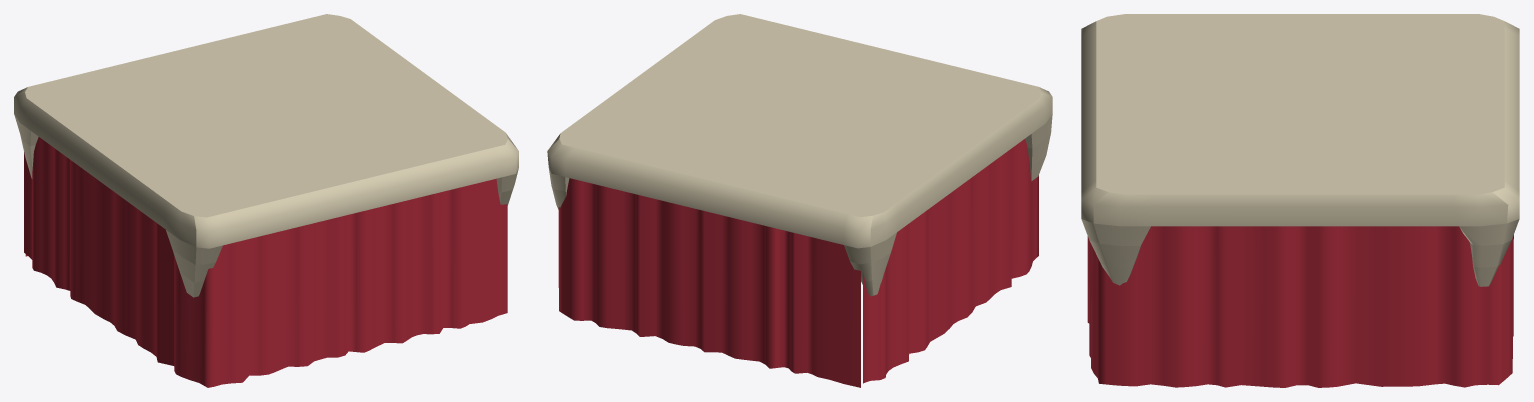
Rendered from Mesa_Chica_FBX.fbx.
The picture shows the model from 3 angles, left to right: view 1: azimuth 30°, elevation 25°; view 2: azimuth 150°, elevation 25°; view 3: azimuth 270°, elevation 25°; orthographic projection. The views are drawn at different scales.
Visible parts, largest first — view 1: Mesa_Chica; view 2: Mesa_Chica; view 3: Mesa_Chica.
Boxes of the visible parts, x1,y1,x2,y2 form: Mesa_Chica: (14,14,518,387); Mesa_Chica: (547,14,1052,387); Mesa_Chica: (1081,14,1519,387).
Size of the model in its own units: 1.95 by 0.9516 by 1.95.
